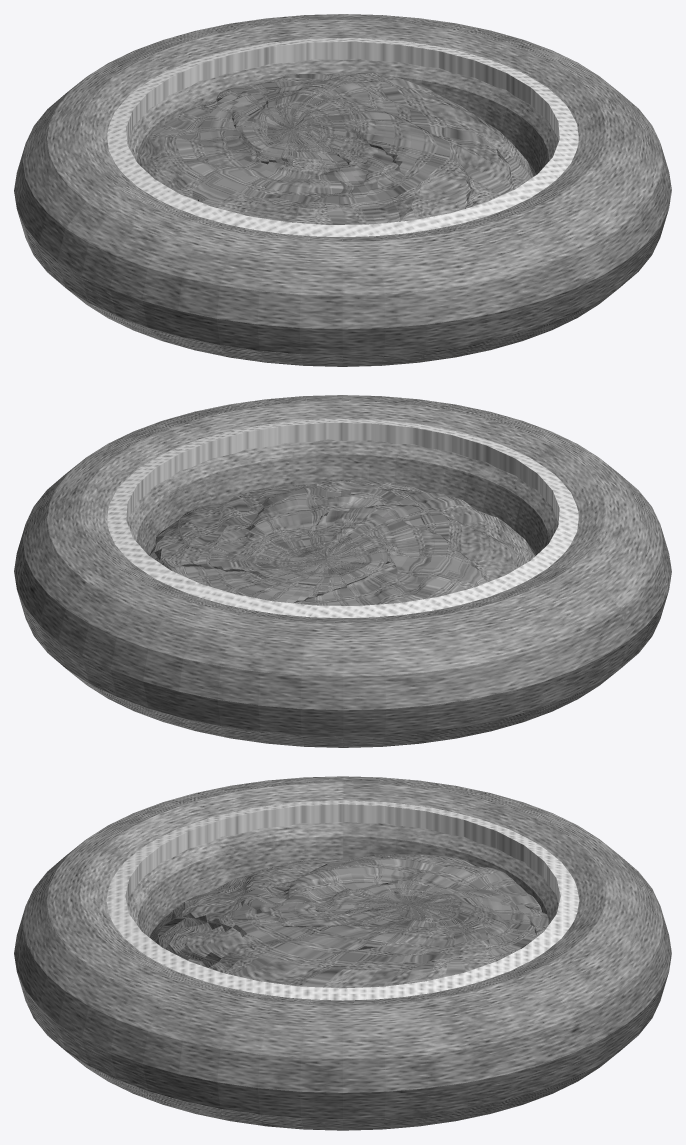
File: cat bed.fbx
The picture shows the model from 3 angles, top to bottom: view 1: azimuth 30°, elevation 25°; view 2: azimuth 150°, elevation 25°; view 3: azimuth 270°, elevation 25°; orthographic projection.
Visible parts, largest first — view 1: Torus, Sphere, Cylinder; view 2: Torus, Sphere, Cylinder; view 3: Torus, Sphere, Cylinder.
Boxes of the visible parts, bbox=[...] form: Torus: bbox=[14, 14, 671, 366]; Sphere: bbox=[139, 72, 533, 224]; Cylinder: bbox=[107, 38, 578, 236]; Torus: bbox=[14, 395, 671, 747]; Sphere: bbox=[150, 479, 535, 605]; Cylinder: bbox=[107, 419, 578, 617]; Torus: bbox=[14, 776, 671, 1130]; Sphere: bbox=[156, 854, 548, 988]; Cylinder: bbox=[106, 800, 579, 1000].
Size of the model in its own units: 250 by 49.85 by 249.
